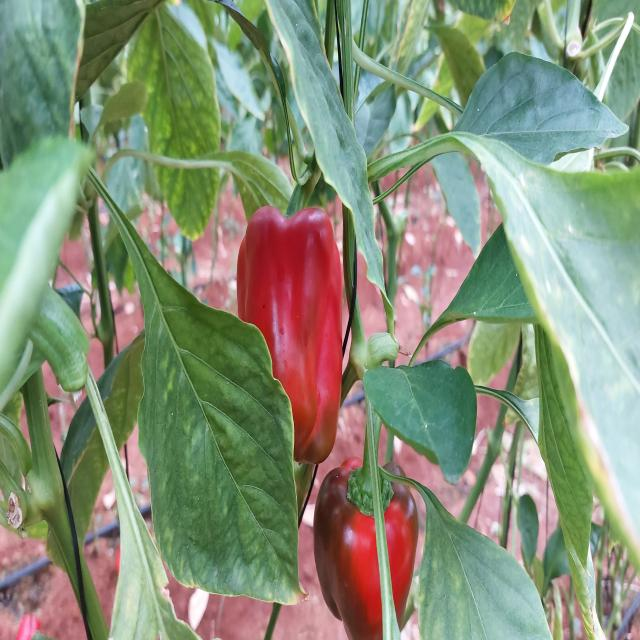Red-Ready-to-Harvest: (230, 202, 344, 467), (321, 479, 437, 634)
